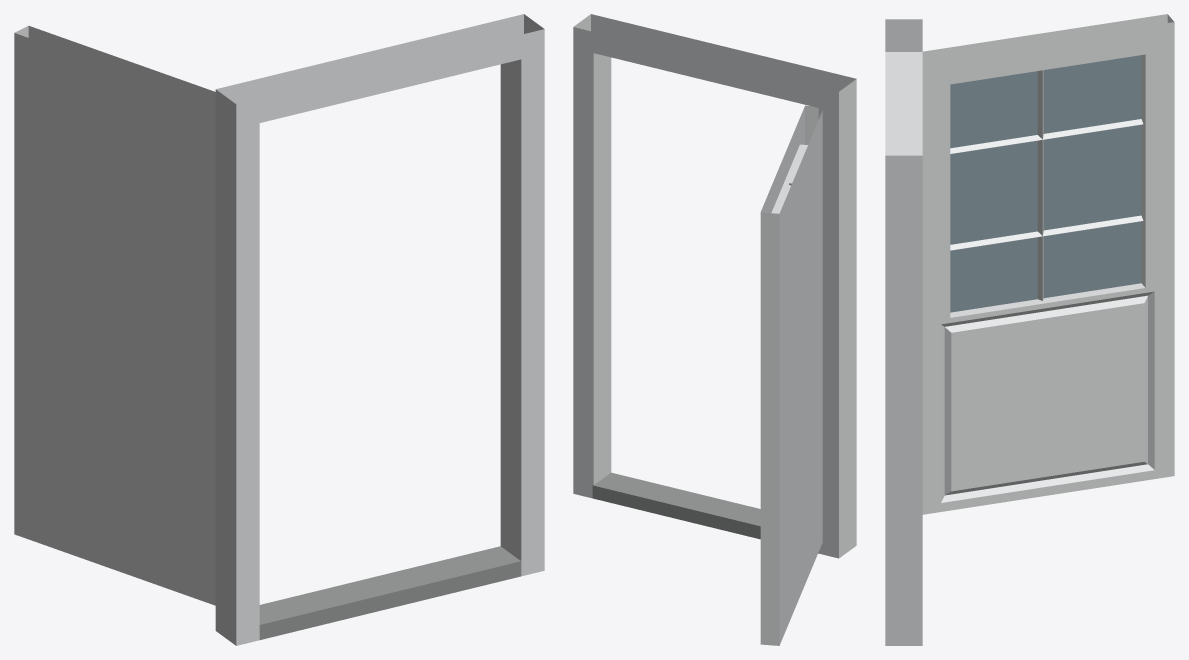
The model's file is M_WCmen01.FBX.
3 views of the same model, side by side, from view 1: azimuth 30°, elevation 25°; view 2: azimuth 150°, elevation 25°; view 3: azimuth 270°, elevation 25° (orthographic). The views are drawn at different scales.
Visible parts, largest first — view 1: M_WCmen01_01; view 2: M_WCmen01_01; view 3: M_WCmen01_01, M_WCmen01_02.
Boxes of the visible parts, x1,y1,x2,y2 form: M_WCmen01_01: [14, 14, 544, 645]; M_WCmen01_01: [573, 14, 856, 645]; M_WCmen01_01: [885, 14, 1174, 645]; M_WCmen01_02: [950, 55, 1141, 312].
Bounding box in the file's own units: 2.13 × 2.94 × 1.57.
